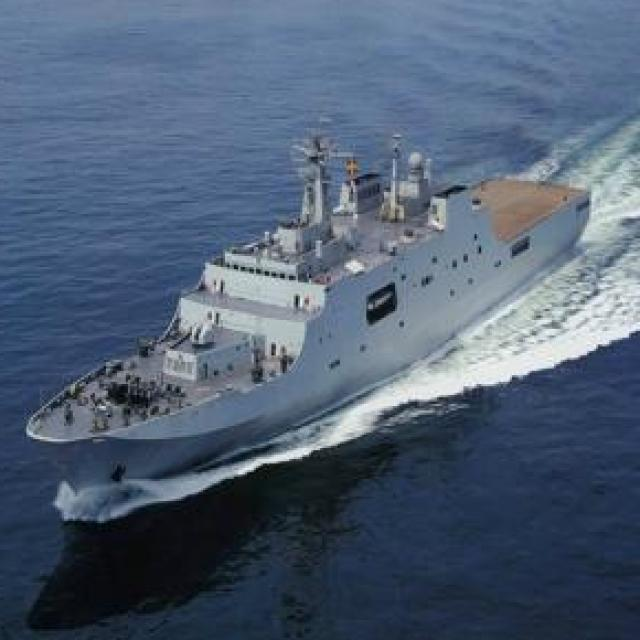navalvessels: (24, 133, 593, 492)
